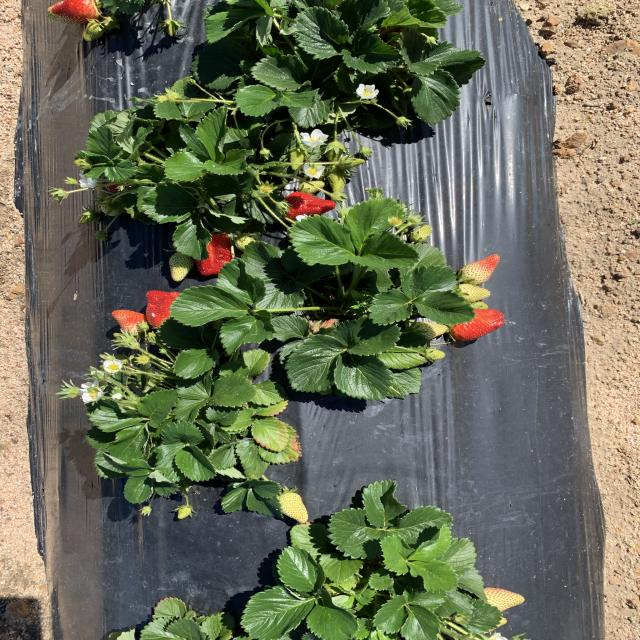unripe: (144, 291, 200, 332), (445, 306, 507, 342), (192, 224, 234, 277), (272, 188, 340, 218), (50, 0, 114, 23), (112, 307, 156, 338)
